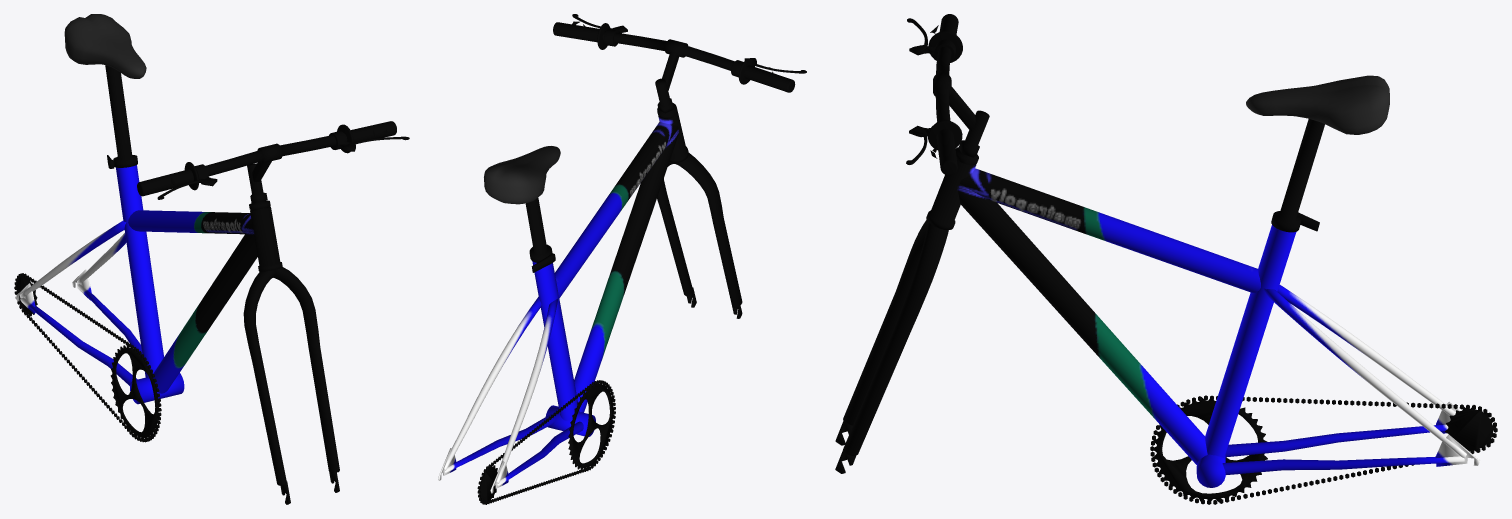
File: cuadro.obj
3 renders of one model, left to right at view 1: azimuth 30°, elevation 25°; view 2: azimuth 150°, elevation 25°; view 3: azimuth 270°, elevation 25°, orthographic. The views are drawn at different scales.
Parts seen in each view (by area): view 1: Plane; view 2: Plane; view 3: Plane.
Boxes of the visible parts, x1=… form: Plane: x1=14, y1=14, x2=409, y2=504; Plane: x1=438, y1=14, x2=806, y2=504; Plane: x1=835, y1=14, x2=1497, y2=504.
Size of the model in its own units: 57.35 by 79.92 by 109.
1 material, 1 textured.
